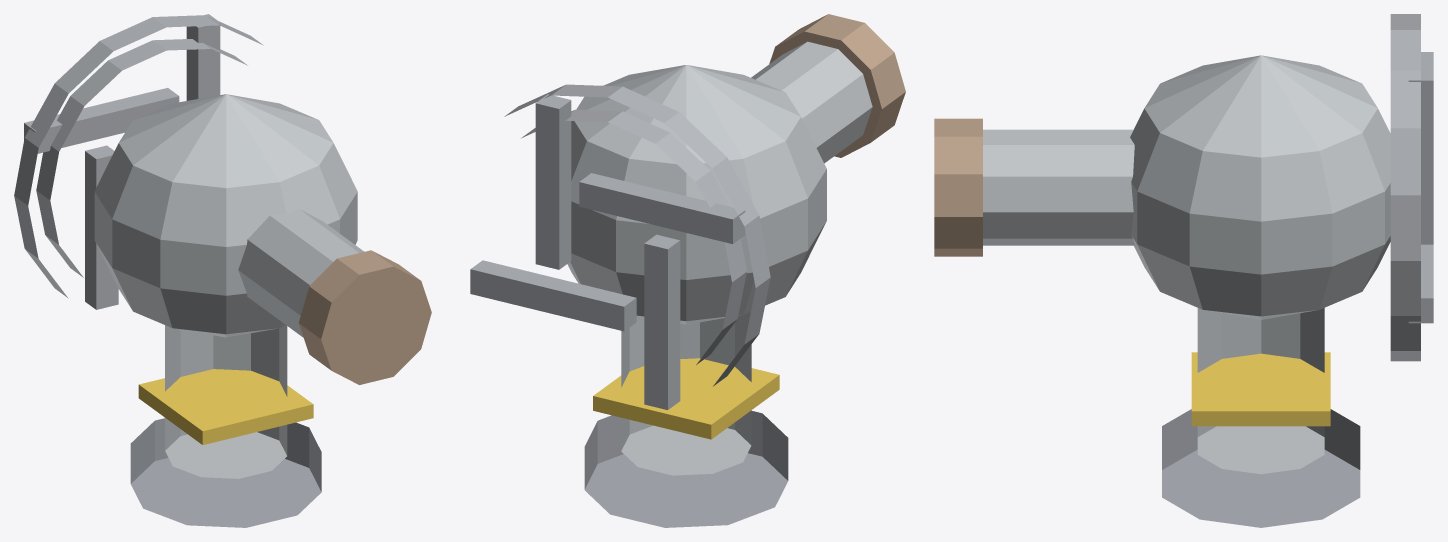
The model's file is prop_valve.glb.
3 renders of one model, left to right at view 1: azimuth 30°, elevation 25°; view 2: azimuth 150°, elevation 25°; view 3: azimuth 270°, elevation 25°, orthographic. The views are drawn at different scales.
Visible parts, largest first — view 1: prop_valve; view 2: prop_valve; view 3: prop_valve.
Boxes of the visible parts, left/top/right/bottom form: prop_valve: left=14, top=14, right=431, bottom=527; prop_valve: left=470, top=14, right=905, bottom=527; prop_valve: left=934, top=14, right=1433, bottom=527.
Size of the model in its own units: 0.25 by 0.36 by 0.359.
